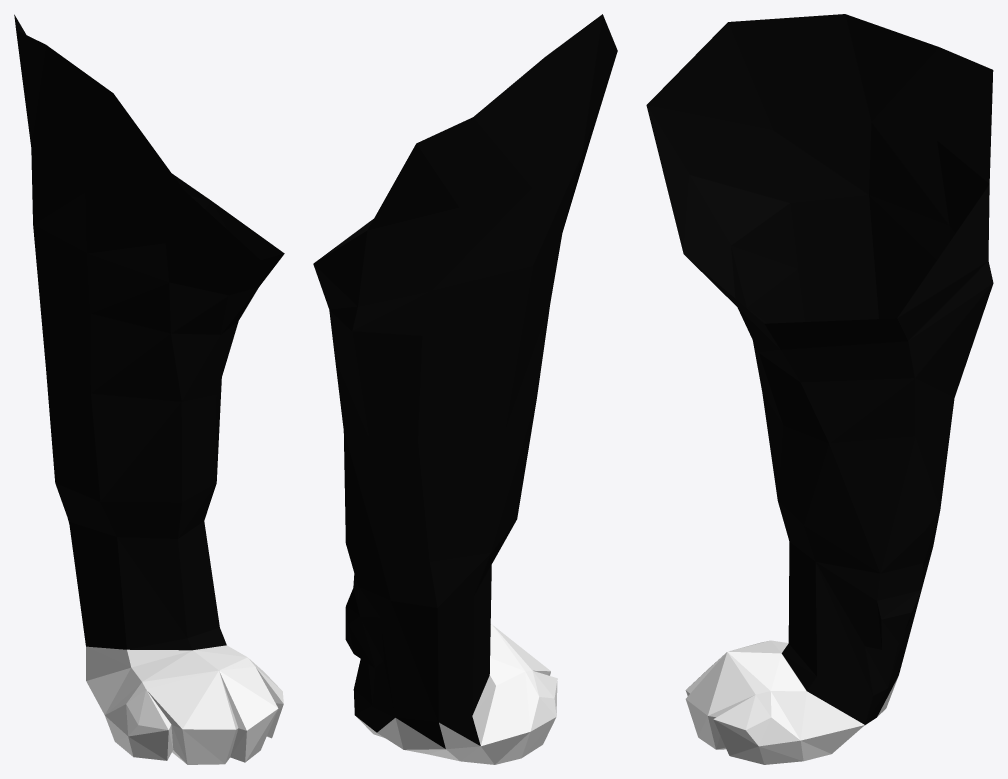
Rendered from gato.obj.
The picture shows the model from 3 angles, left to right: view 1: azimuth 30°, elevation 25°; view 2: azimuth 150°, elevation 25°; view 3: azimuth 270°, elevation 25°; orthographic projection. The views are drawn at different scales.
Visible parts, largest first — view 1: cat_01_color05.001; view 2: cat_01_color05.001; view 3: cat_01_color05.001.
Boxes of the visible parts, left/top/right/bottom form: cat_01_color05.001: left=14, top=14, right=284, bottom=764; cat_01_color05.001: left=313, top=14, right=617, bottom=764; cat_01_color05.001: left=646, top=14, right=993, bottom=764.
Size of the model in its own units: 0.2851 by 0.957 by 0.4499.
2 materials, 2 textured.
